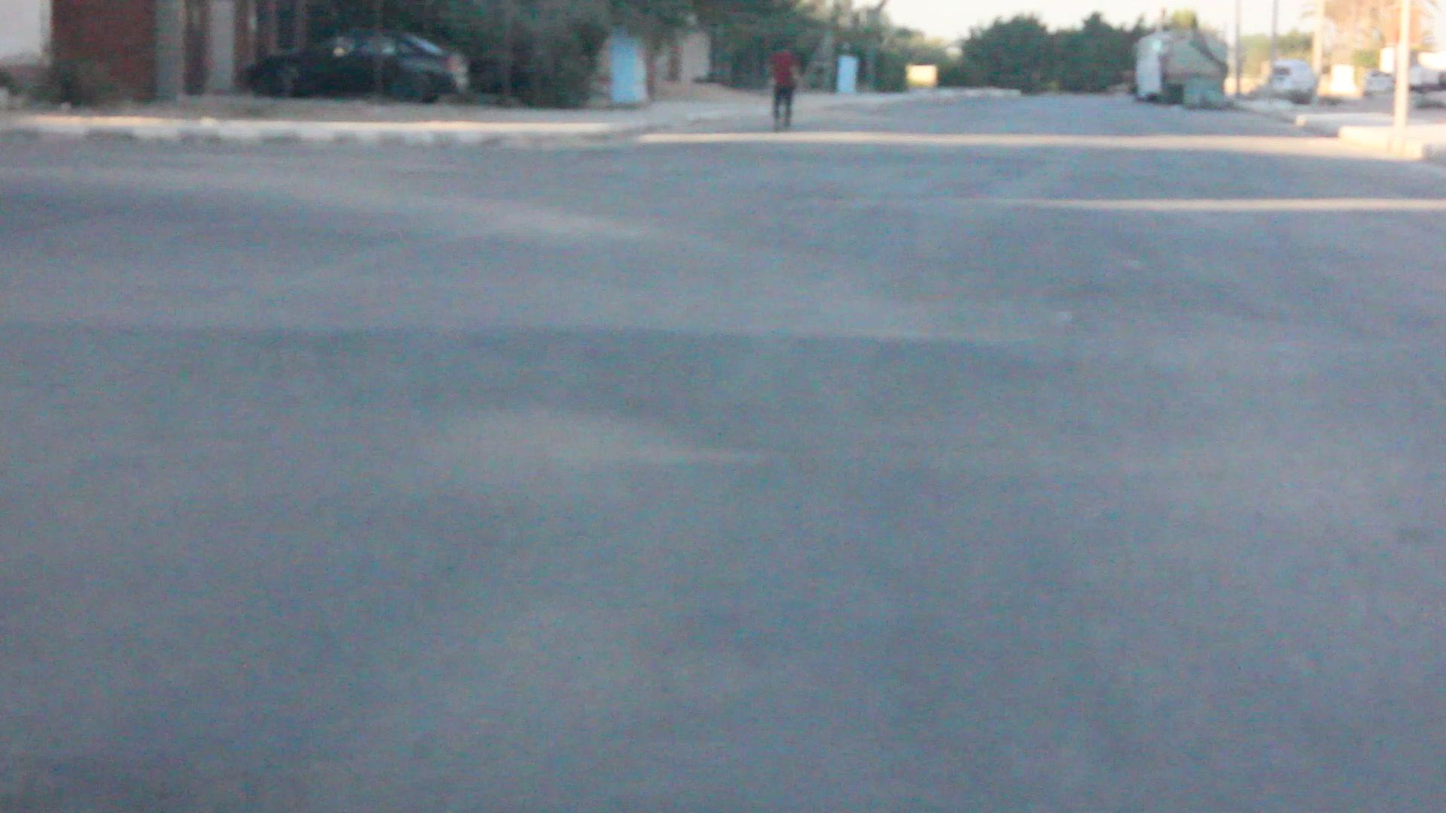Bump: (0, 295, 1446, 457)
